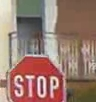stop: (5, 49, 69, 101)
